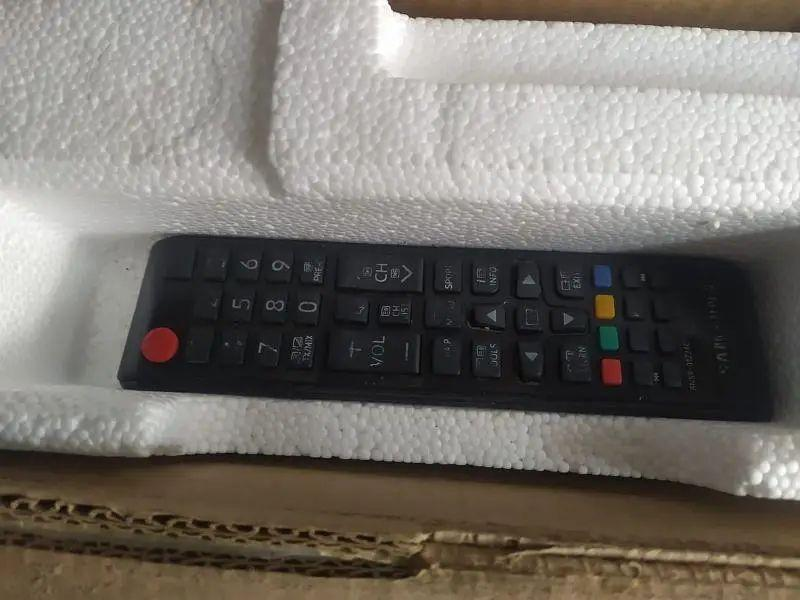electronic: (101, 218, 785, 448)
